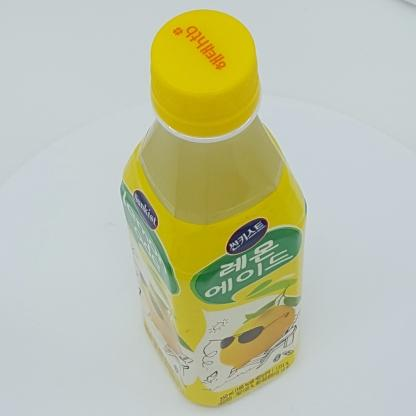-------350ML: (120, 8, 308, 408)
